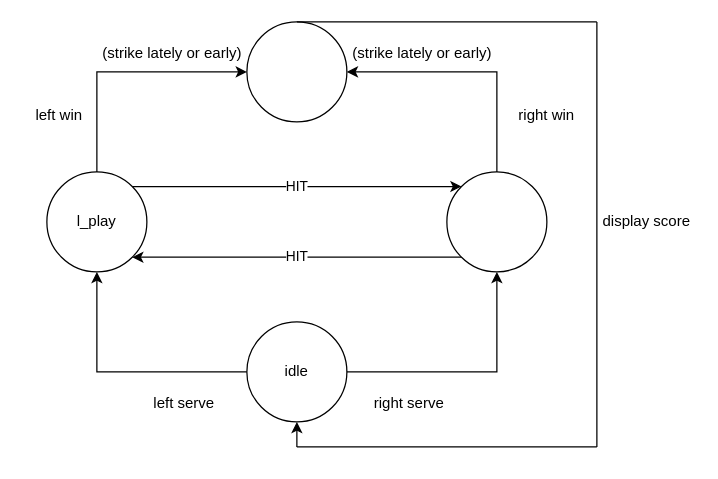
Image size: 718x479. Some labels were removed from this diagram. The box of each missing label's shape, as (x1, y1, x2, y2) in pixels:
r_right: (446, 171, 547, 272)
score: (246, 21, 347, 122)
